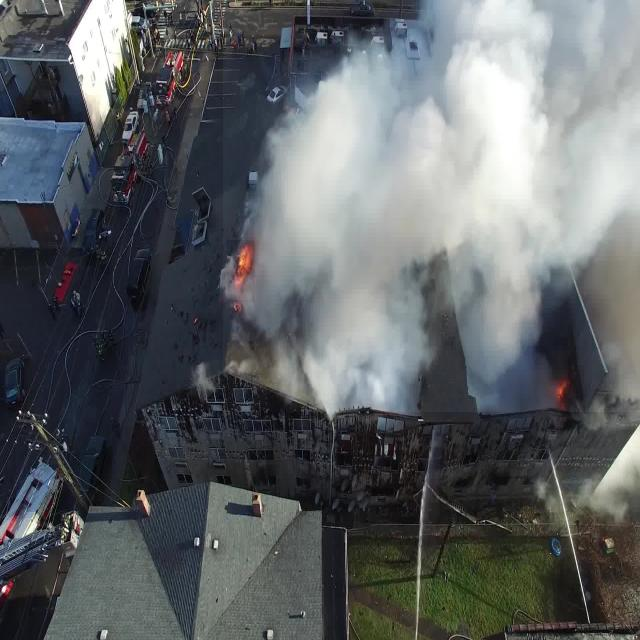Fire: (227, 240, 255, 302)
Smoke: (223, 0, 640, 412)
